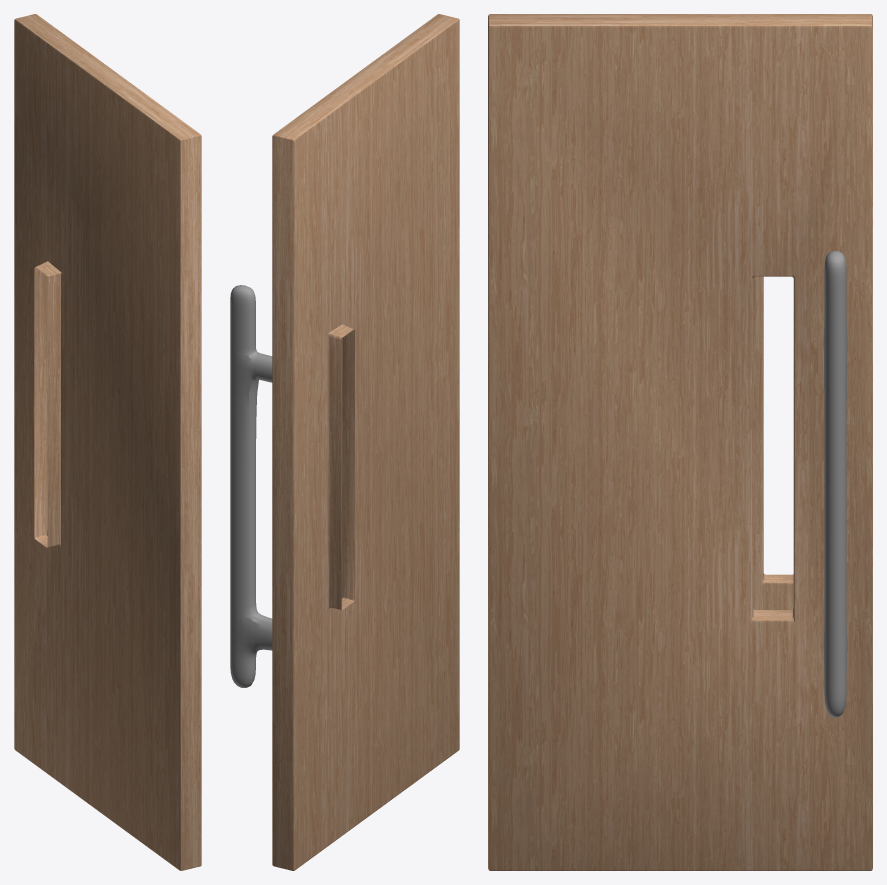
The model's file is doubleDoor-left.glb.
3 views of the same model, side by side, from view 1: azimuth 30°, elevation 25°; view 2: azimuth 150°, elevation 25°; view 3: azimuth 270°, elevation 25° (orthographic). The views are drawn at different scales.
Visible parts, largest first — view 1: Cube.011; view 2: Cube.011; view 3: Cube.011.
Part boxes in pixels (left/top/right/bottom): Cube.011: left=14, top=14, right=201, bottom=870; Cube.011: left=230, top=14, right=459, bottom=870; Cube.011: left=488, top=14, right=872, bottom=870.
Bounding box in the file's own units: 0.3289 × 2.49 × 1.03.
2 materials, 1 textured.
